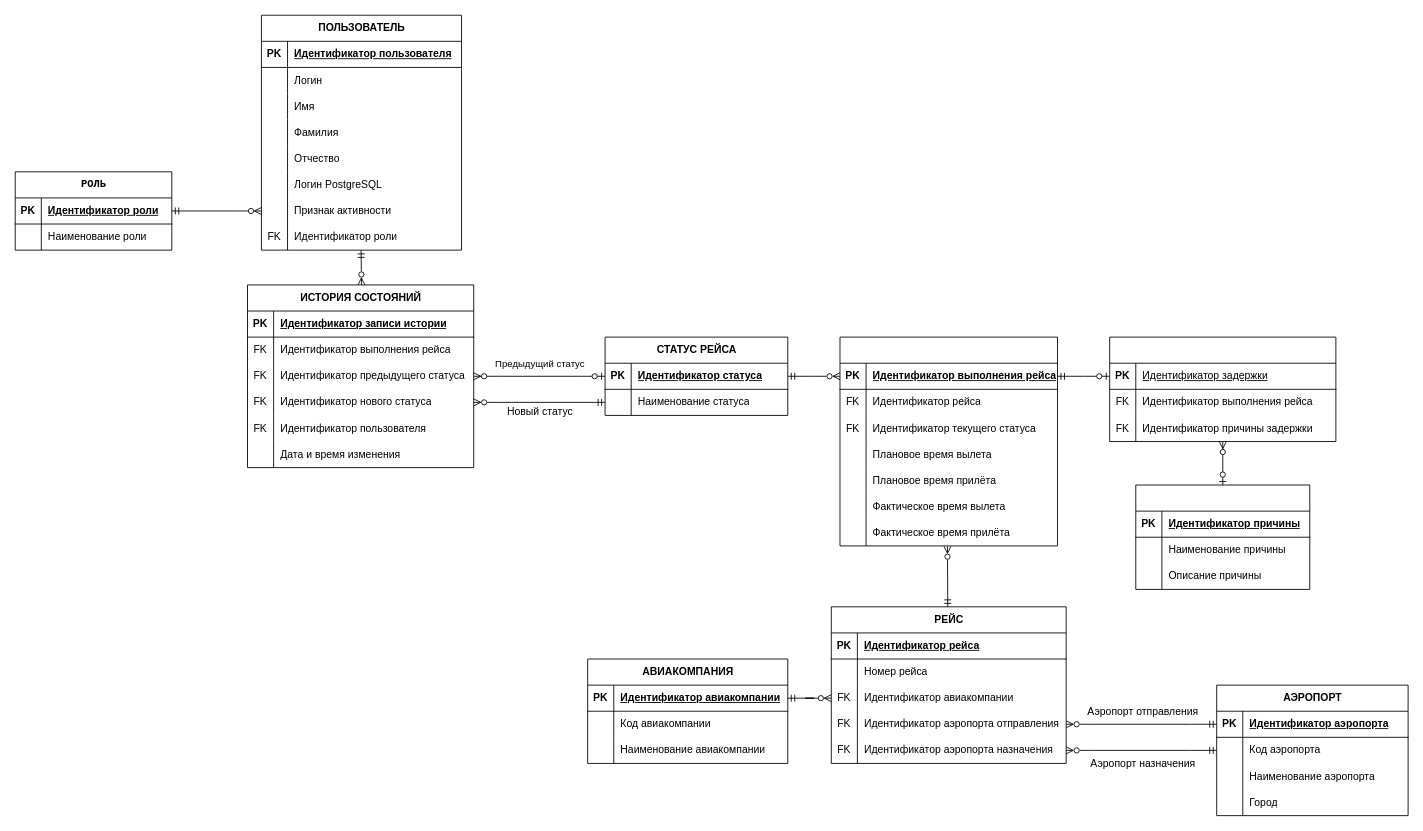
Image size: 1423x831. Some labels were removed from this diagram. The shapes that lost their labels are listed below. From the top down, each one's box as (x1, y1, x2, y2) in pixels, then its label:
(1109, 336, 1336, 442): ЗАДЕРЖКА
(839, 336, 1057, 546): ВЫПОЛНЕНИЕ РЕЙСА
(1135, 484, 1310, 589): ПРИЧИНА ЗАДЕРЖКИ
